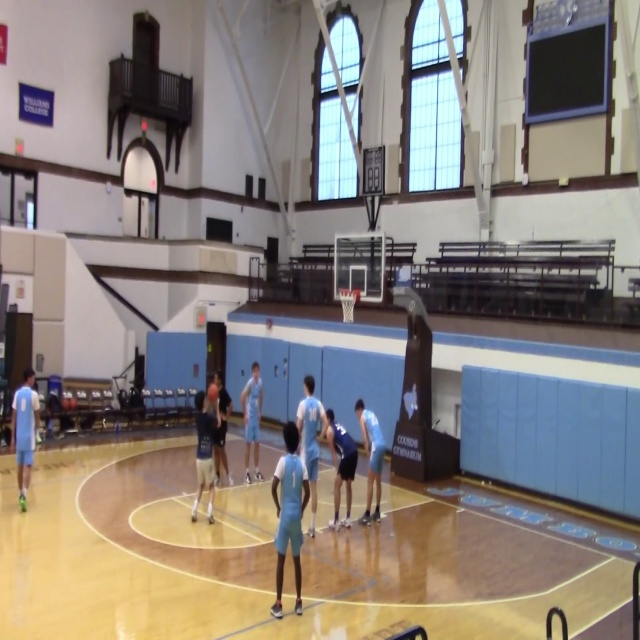Basketball: (208, 383, 218, 401)
